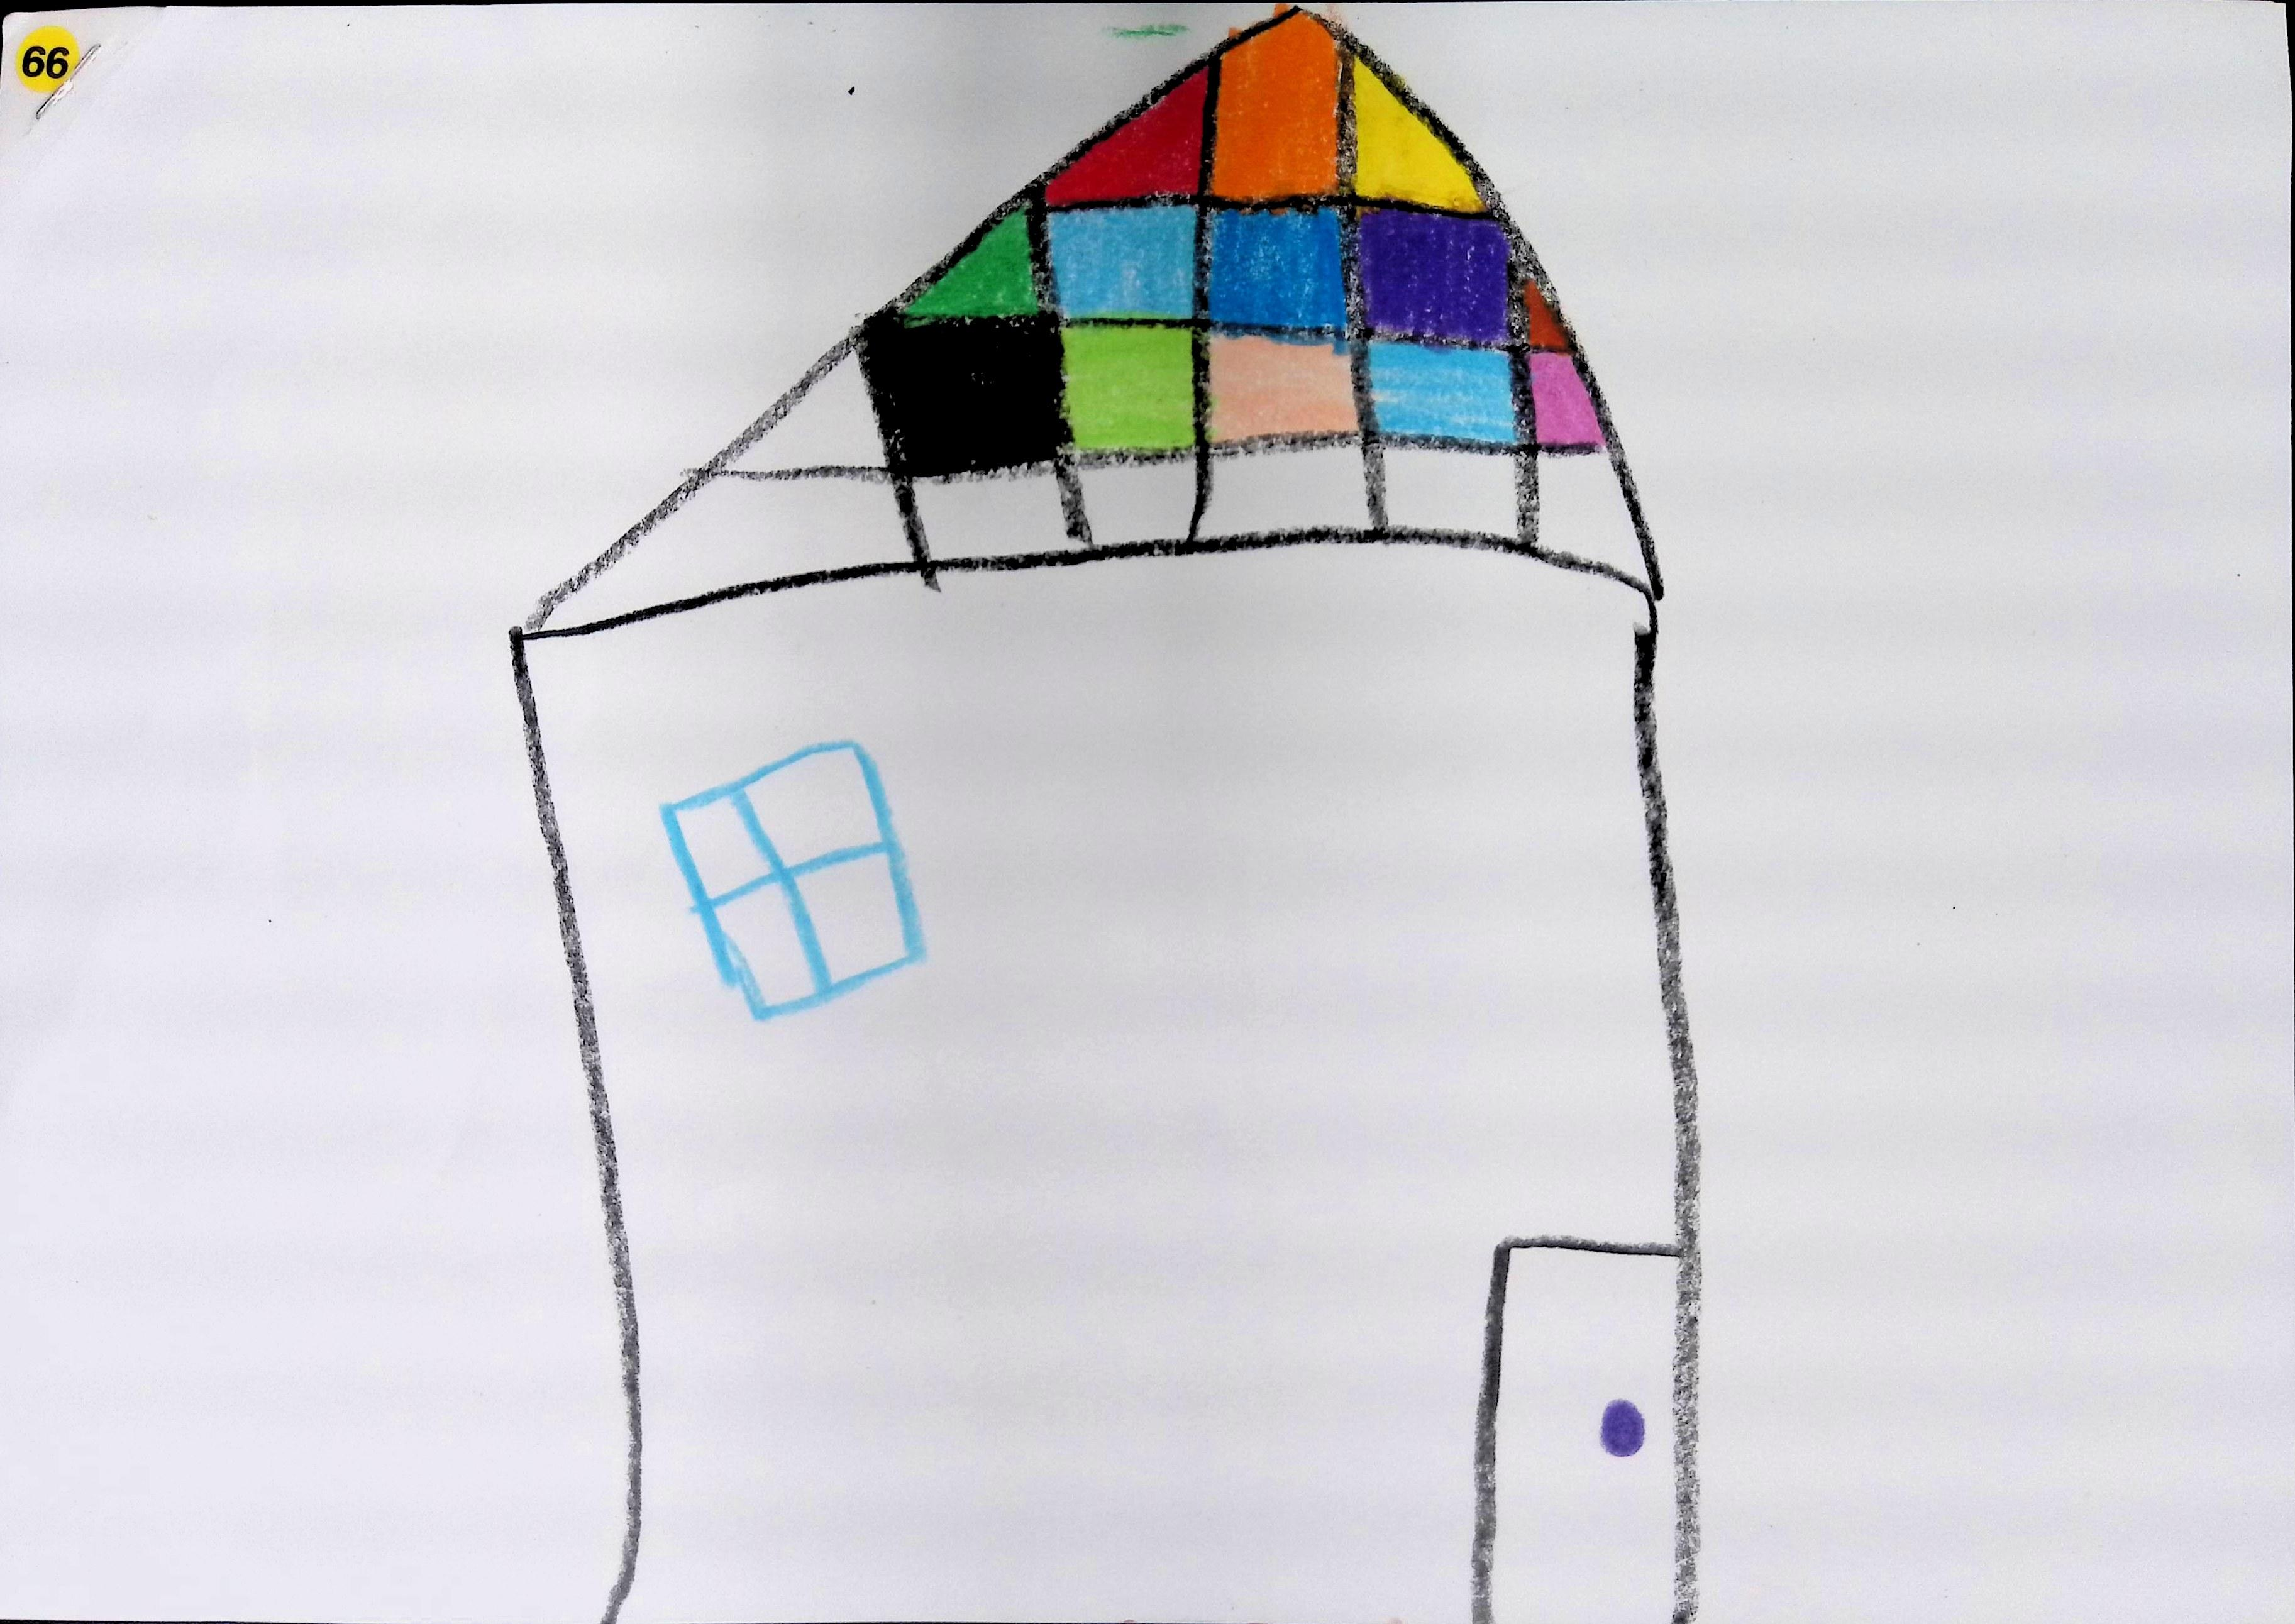door: (511, 541, 1683, 1624), (1474, 1227, 1687, 1624)
house: (510, 5, 1703, 1615)
roof: (511, 5, 1664, 636)
window: (661, 740, 923, 1019)
